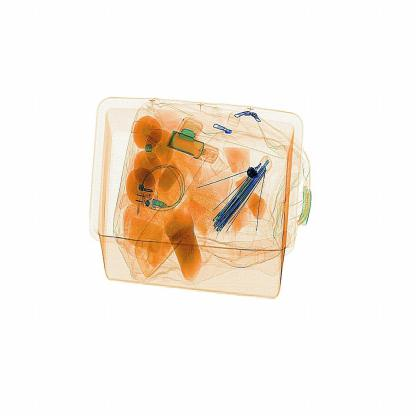knife: (239, 156, 263, 185)
